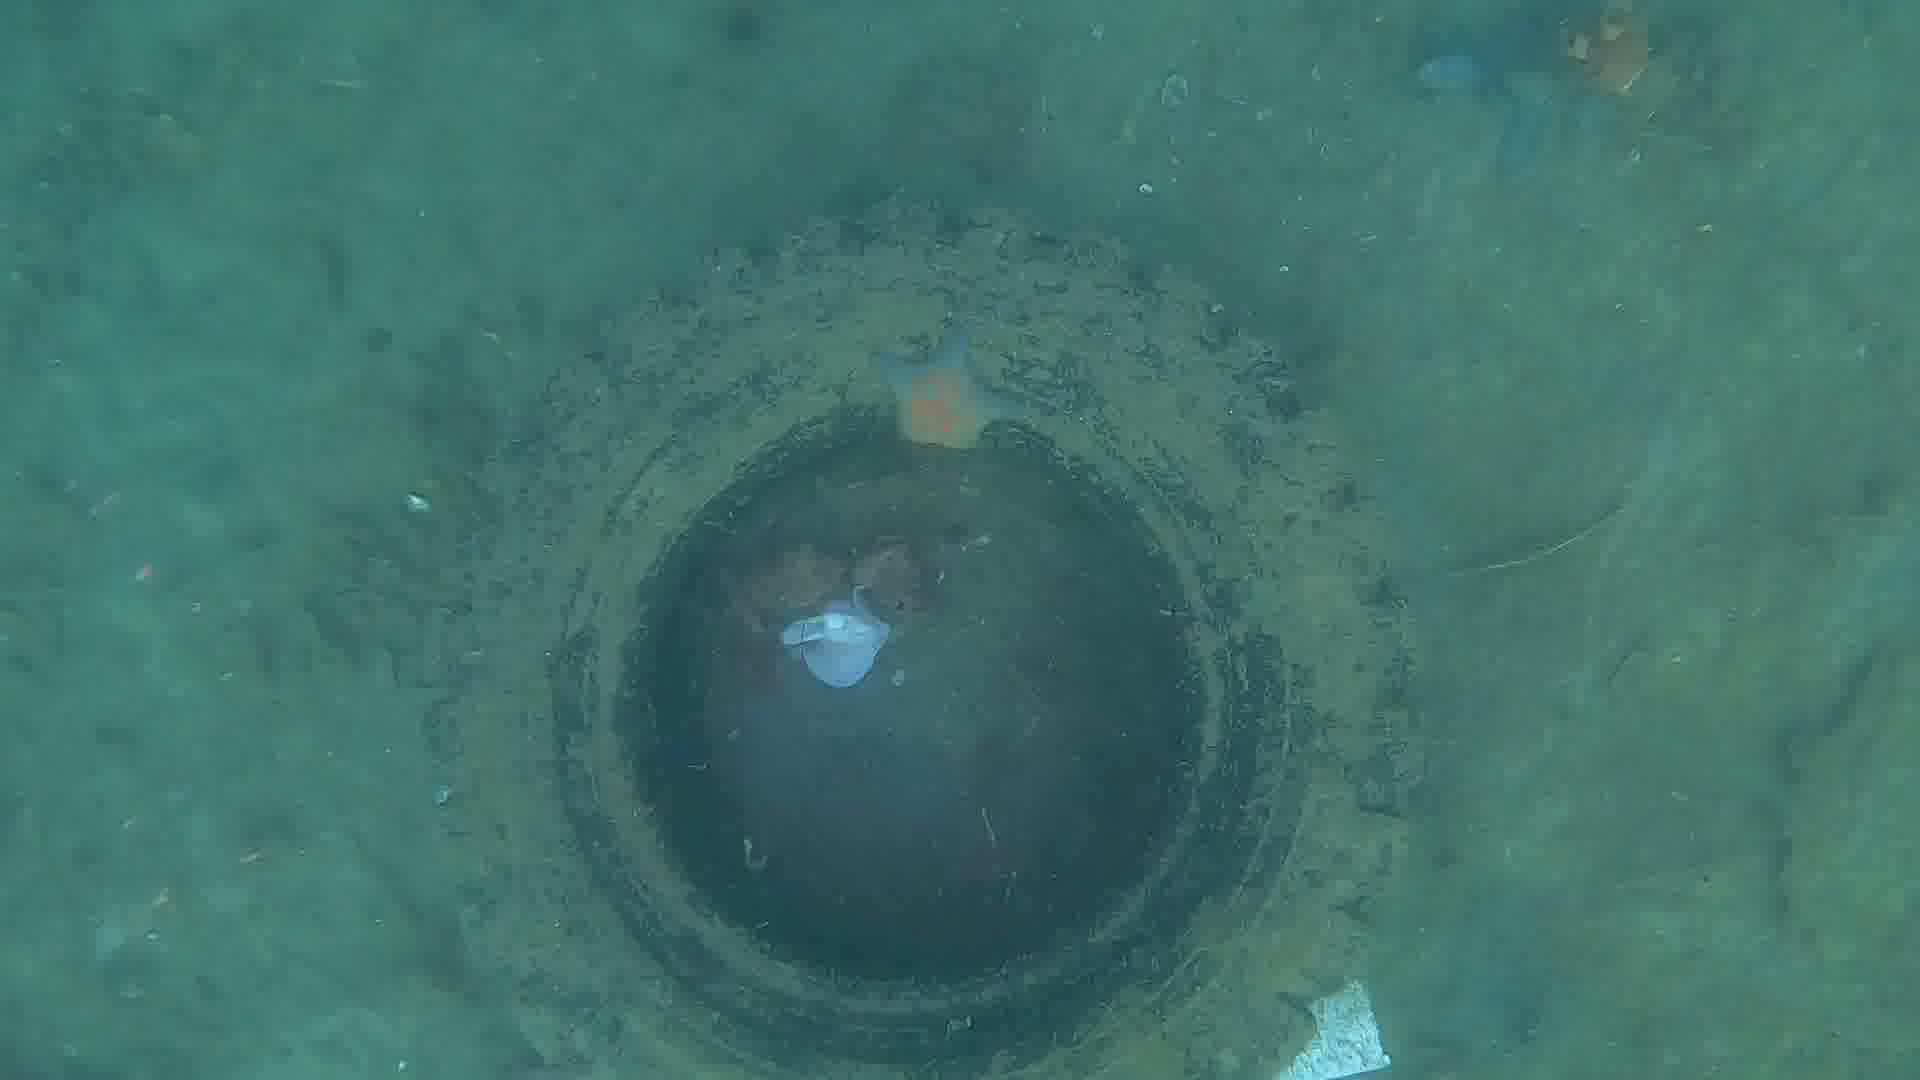tire: (419, 206, 1429, 1080)
